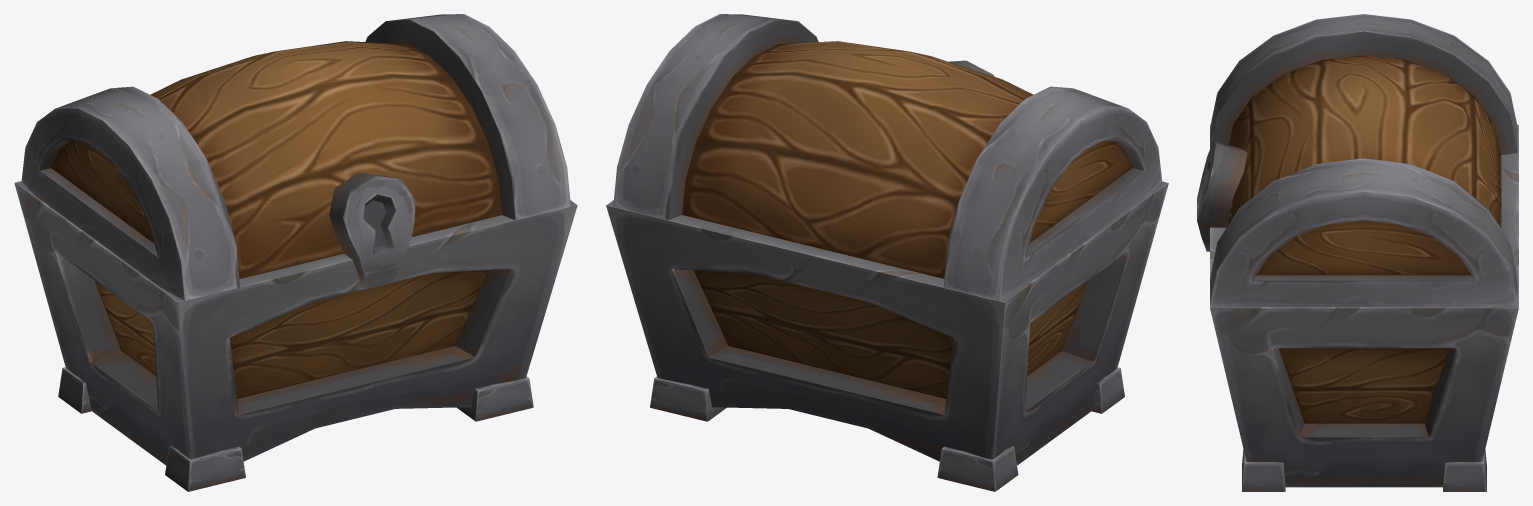
Rendered from Chest.FBX.
3 renders of one model, left to right at view 1: azimuth 30°, elevation 25°; view 2: azimuth 150°, elevation 25°; view 3: azimuth 270°, elevation 25°, orthographic. The views are drawn at different scales.
Parts seen in each view (by area): view 1: Chest_cover, Chest; view 2: Chest_cover, Chest; view 3: Chest_cover, Chest.
Boxes of the visible parts, <box> form: Chest_cover: <box>21,14,570,300</box>; Chest: <box>14,181,577,491</box>; Chest_cover: <box>613,14,1162,300</box>; Chest: <box>606,181,1168,491</box>; Chest_cover: <box>1197,14,1517,306</box>; Chest: <box>1210,124,1518,491</box>.
Size of the model in its own units: 105 by 85.64 by 77.75.
